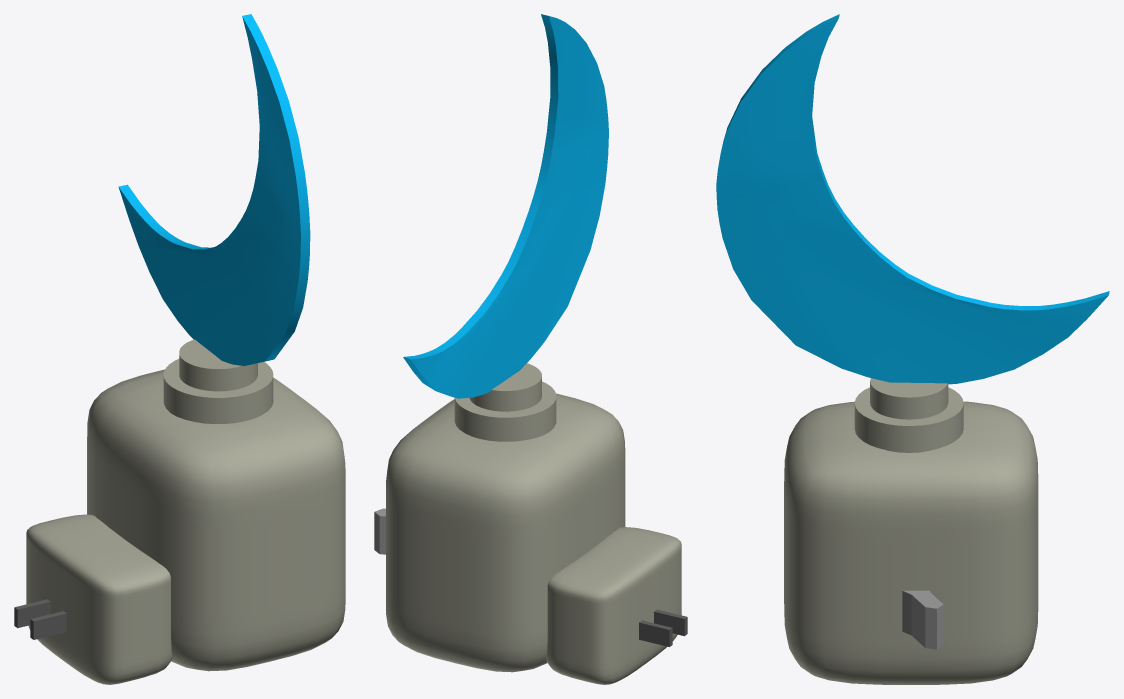
The model's file is LunaLamp.fbx.
The picture shows the model from 3 angles, left to right: view 1: azimuth 30°, elevation 25°; view 2: azimuth 150°, elevation 25°; view 3: azimuth 270°, elevation 25°; orthographic projection. The views are drawn at different scales.
Visible parts, largest first — view 1: Cubo.010, Plano.001, Cubo.009, Cilindro.001, Cubo.006, Cubo.007; view 2: Cubo.010, Plano.001, Cubo.009, Cilindro.001, Cubo.007, Cubo.006, Cubo.008; view 3: Cubo.010, Plano.001, Cilindro.001, Cubo.008.
Boxes of the visible parts, x1,y1,x2,y2 form: Cubo.010: (87, 369, 345, 671); Plano.001: (118, 14, 310, 365); Cubo.009: (26, 514, 172, 684); Cilindro.001: (163, 339, 273, 423); Cubo.006: (30, 611, 66, 639); Cubo.007: (14, 599, 50, 628); Cubo.010: (386, 393, 625, 672); Plano.001: (403, 14, 608, 398); Cubo.009: (546, 527, 681, 684); Cilindro.001: (454, 363, 556, 441); Cubo.007: (639, 620, 672, 646); Cubo.006: (654, 609, 687, 636); Cubo.008: (374, 508, 385, 554); Cubo.010: (784, 401, 1038, 684); Plano.001: (716, 14, 1109, 384); Cilindro.001: (854, 378, 963, 452); Cubo.008: (902, 590, 943, 649).
Bounding box in the file's own units: 200 × 388 × 217.
